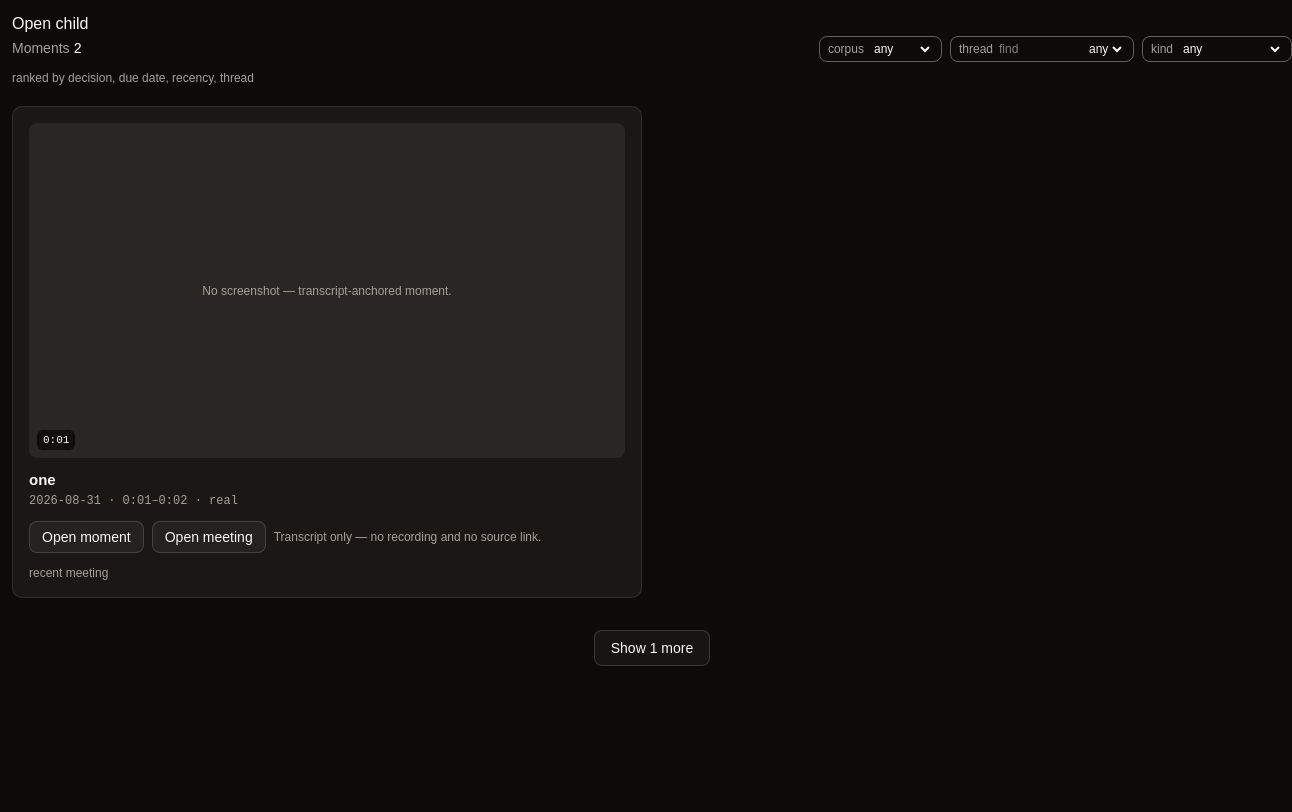
review F4 — a mounted feed owns its visible page › keeps the accumulated page and retries the failed offset
Click the button "Show 1 more" at (652,648), box [594,630,710,666]
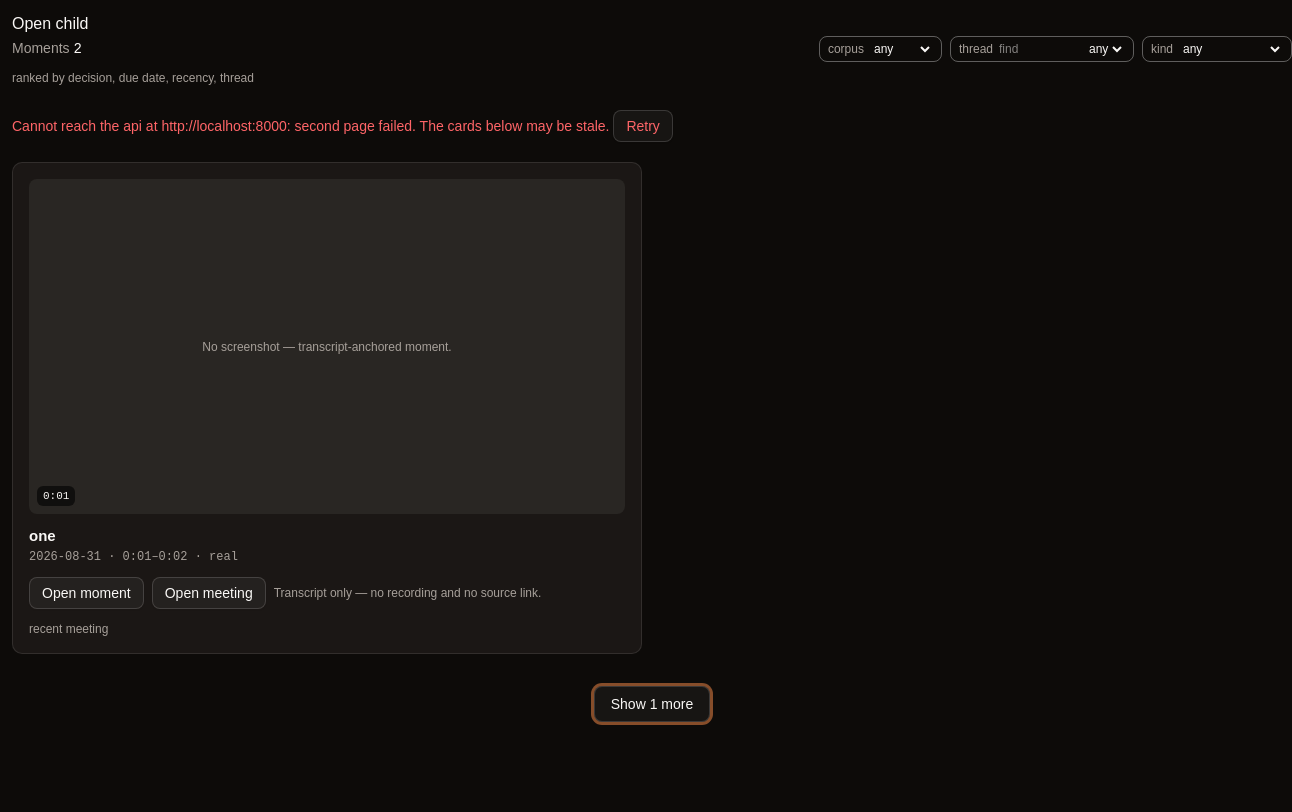
Expected: the element with test id "moment-card-one" is shown, [12,162,642,654]
Now the message with test id "moments-error" shows "second page failed", box [294,118,412,134]
Click the button "Retry" at (643,126), box [613,110,673,142]
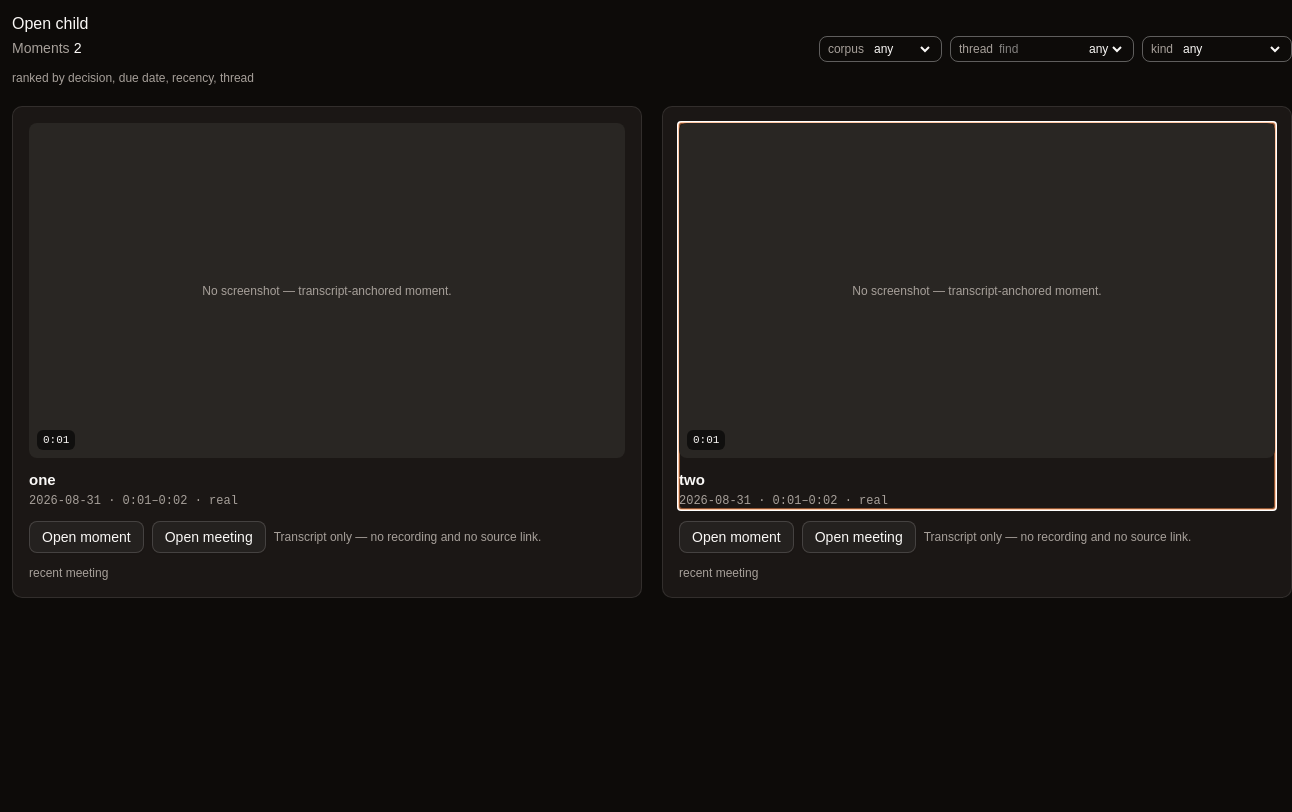
Now the element with test id "moment-card-two" is shown, box [662,106,1291,598]
